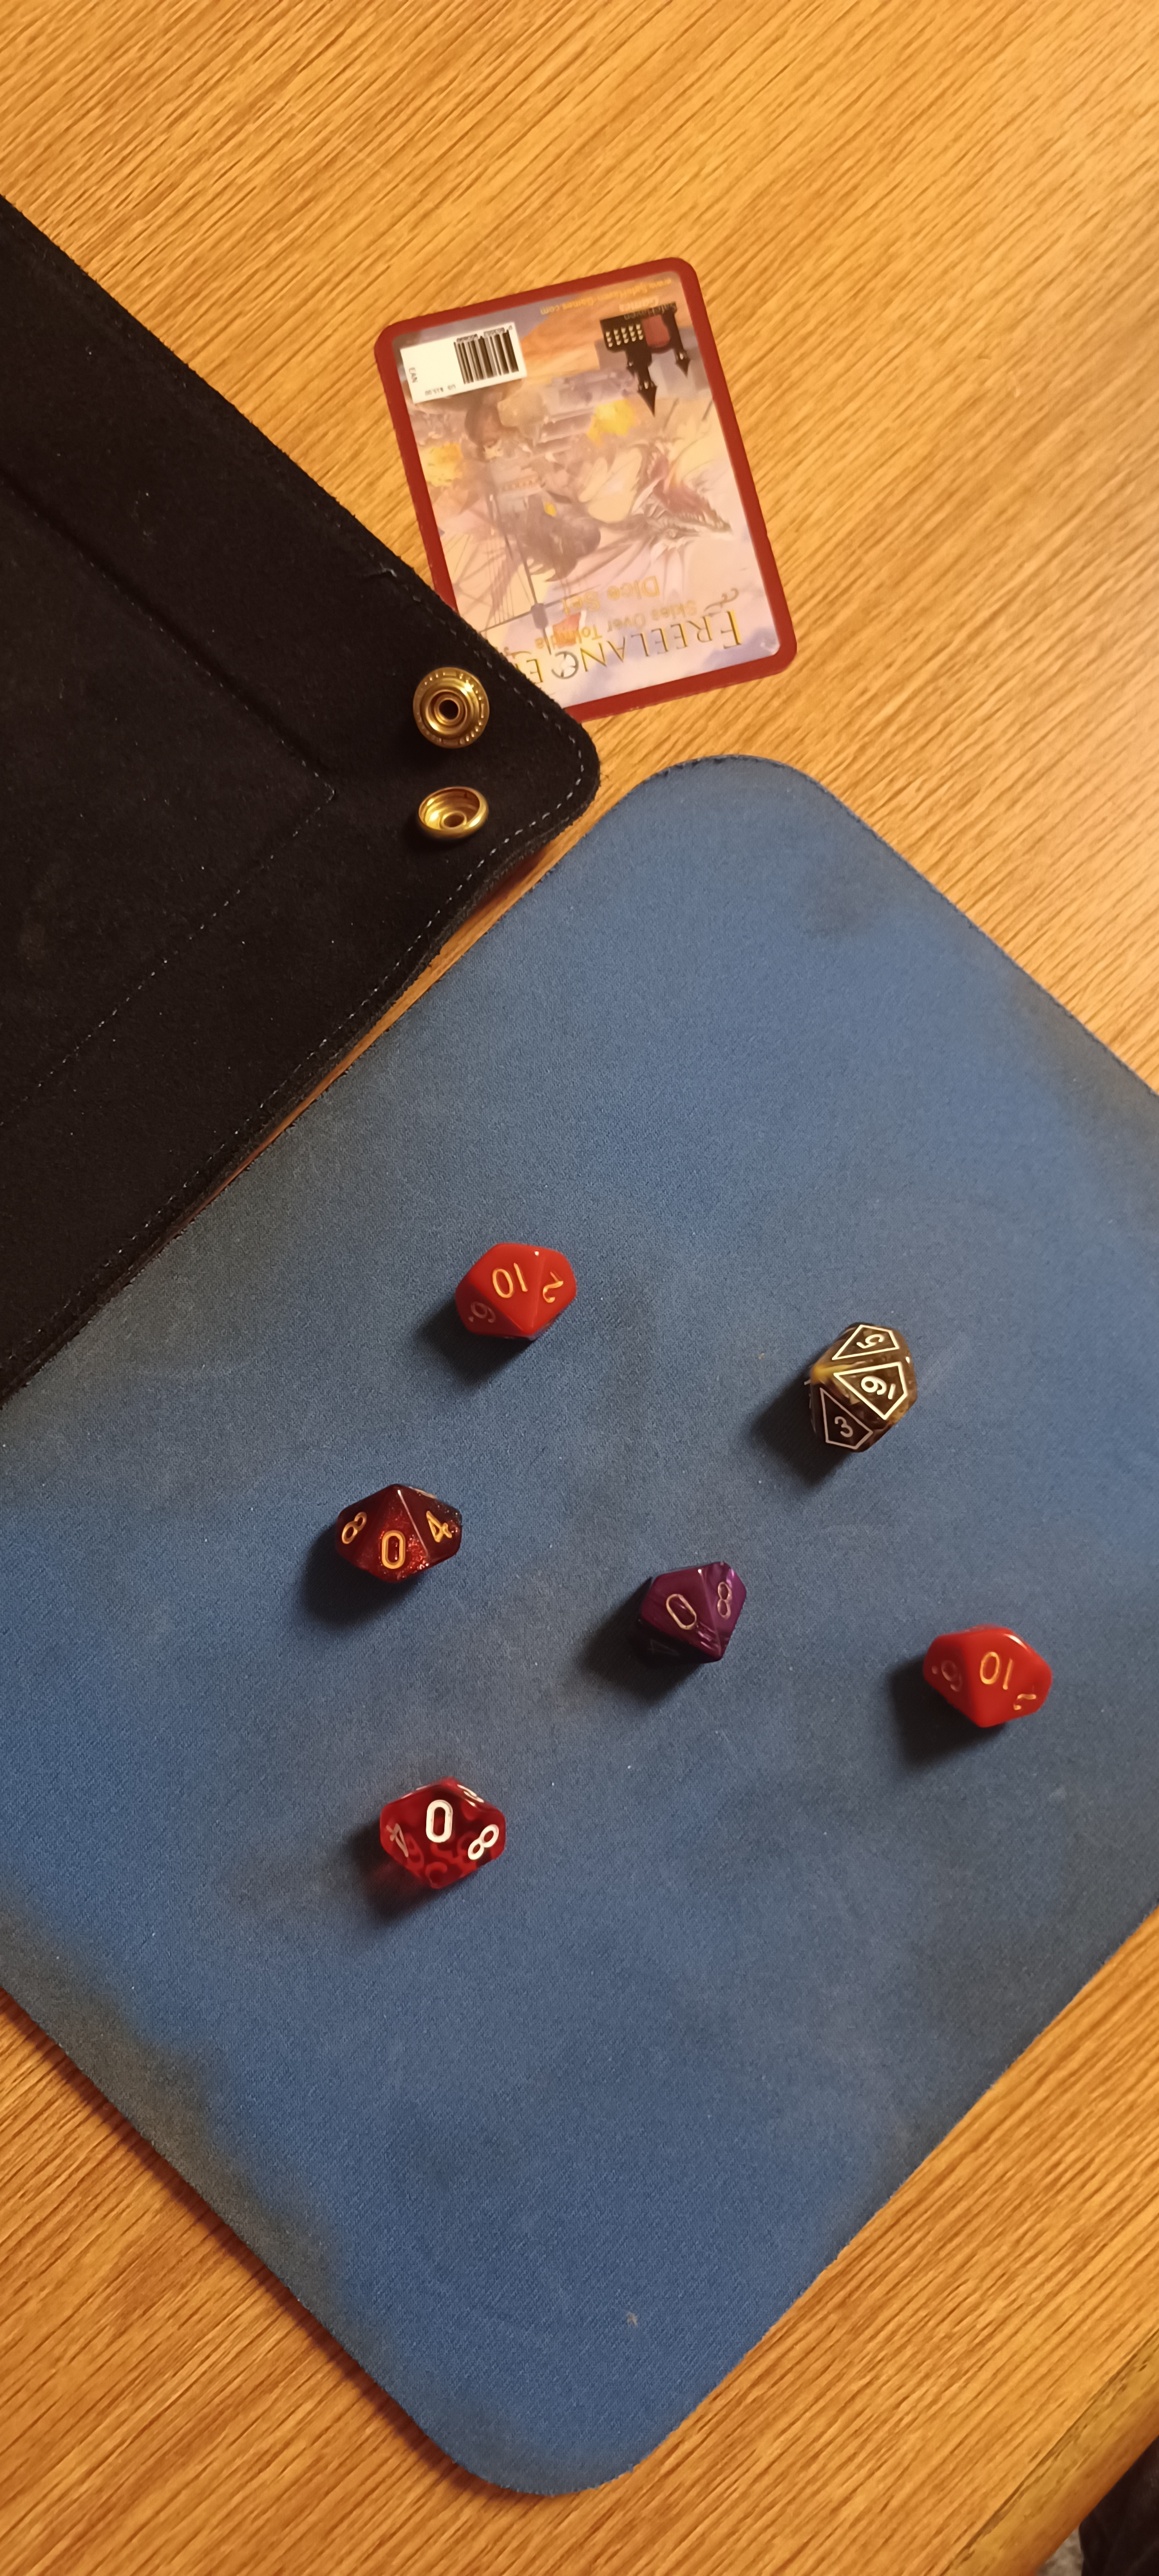nine: (783, 1299, 928, 1460)
ten: (895, 1598, 1075, 1746), (435, 1222, 606, 1364)
zero: (264, 1452, 499, 1592), (601, 1528, 773, 1682), (361, 1761, 522, 1912)
